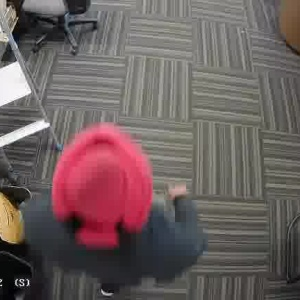person: (32, 128, 203, 278)
